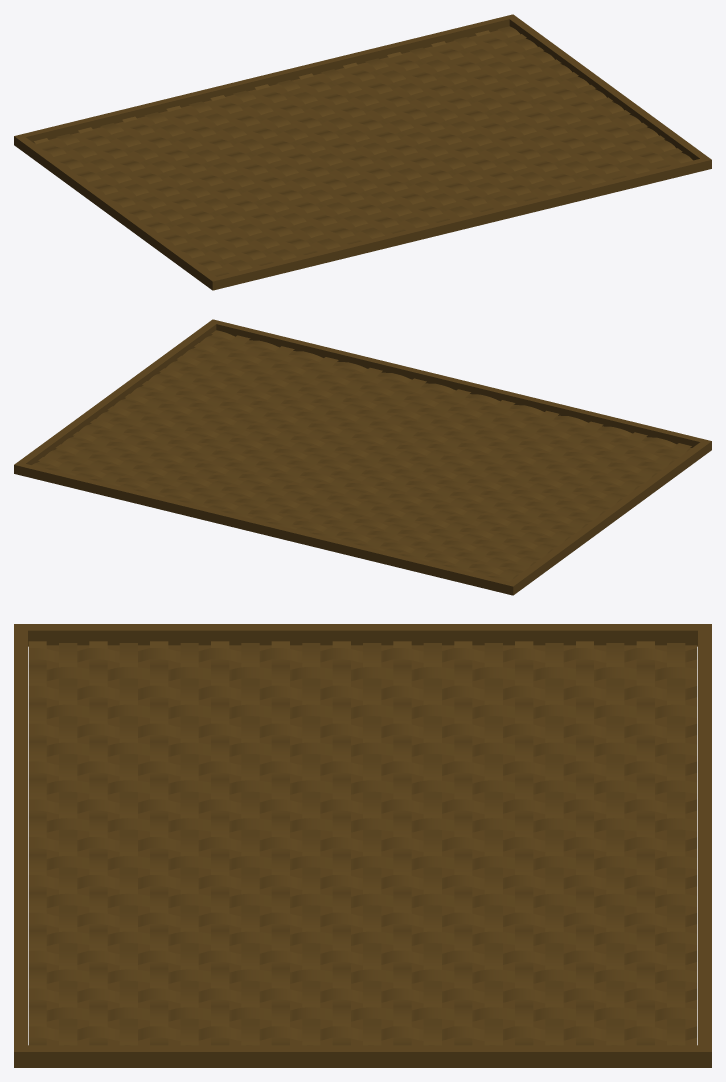
File: stu0114.glb
3 views of the same model, one above another, from view 1: azimuth 30°, elevation 25°; view 2: azimuth 150°, elevation 25°; view 3: azimuth 270°, elevation 25° (orthographic). The views are drawn at different scales.
Visible parts, largest first — view 1: Tessellation; view 2: Tessellation; view 3: Tessellation.
Boxes of the visible parts, x1=… form: Tessellation: x1=14, y1=14, x2=711, y2=290; Tessellation: x1=14, y1=319, x2=711, y2=595; Tessellation: x1=14, y1=624, x2=711, y2=1067.
Size of the model in its own units: 4.01 by 0.0738 by 2.77.
